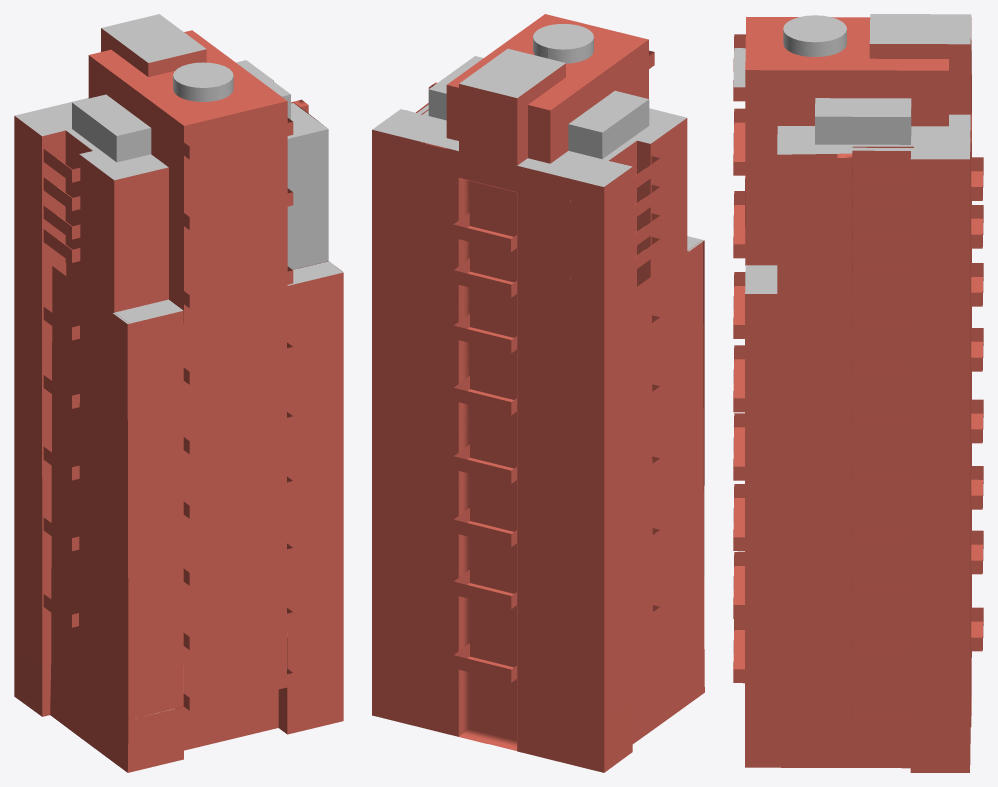
The model's file is Building_1_Red.glb.
3 views of the same model, side by side, from view 1: azimuth 30°, elevation 25°; view 2: azimuth 150°, elevation 25°; view 3: azimuth 270°, elevation 25° (orthographic). The views are drawn at different scales.
Parts seen in each view (by area): view 1: polySurface314; view 2: polySurface314; view 3: polySurface314.
Boxes of the visible parts, bbox=[...] form: polySurface314: bbox=[14, 14, 343, 772]; polySurface314: bbox=[372, 14, 704, 772]; polySurface314: bbox=[733, 14, 983, 772].
Bounding box in the file's own units: 4271 × 11416 × 3784.
